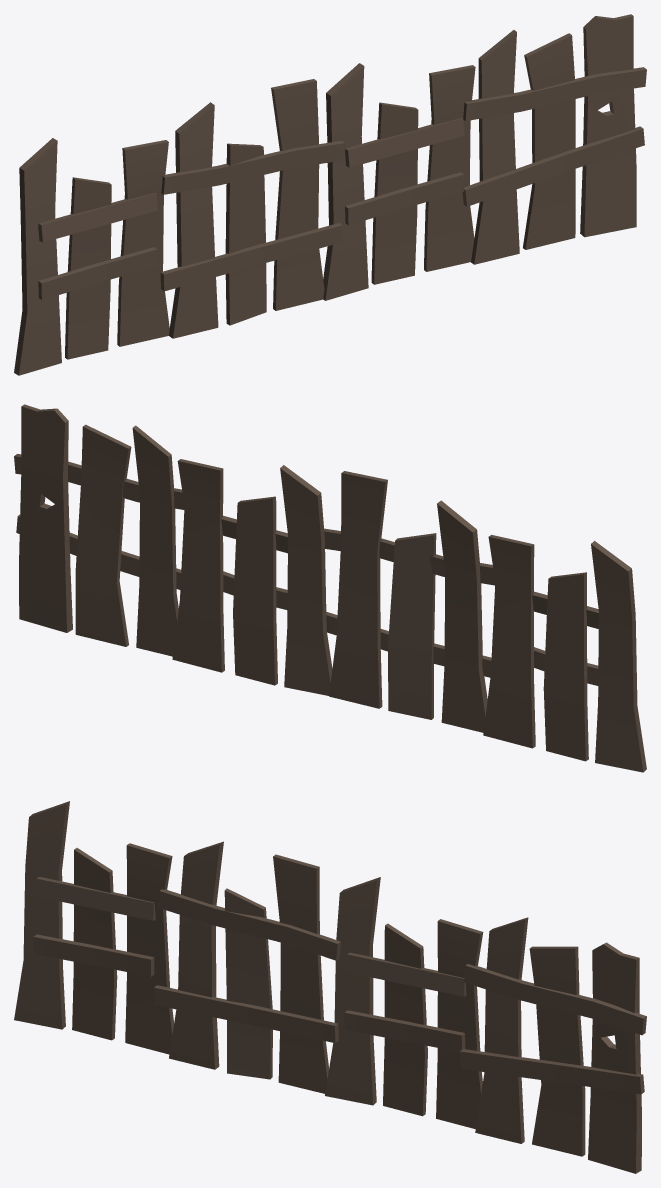
Rendered from Fence_V07.fbx.
3 views of the same model, one above another, from view 1: azimuth 30°, elevation 25°; view 2: azimuth 150°, elevation 25°; view 3: azimuth 330°, elevation 25° (orthographic).
Parts seen in each view (by area): view 1: Fence_V07; view 2: Fence_V07; view 3: Fence_V07.
Boxes of the visible parts, left/top/right/bottom form: Fence_V07: left=14, top=14, right=646, bottom=375; Fence_V07: left=14, top=404, right=646, bottom=772; Fence_V07: left=14, top=801, right=646, bottom=1173.
Bounding box in the file's own units: 7.04 × 2.41 × 0.2776.
